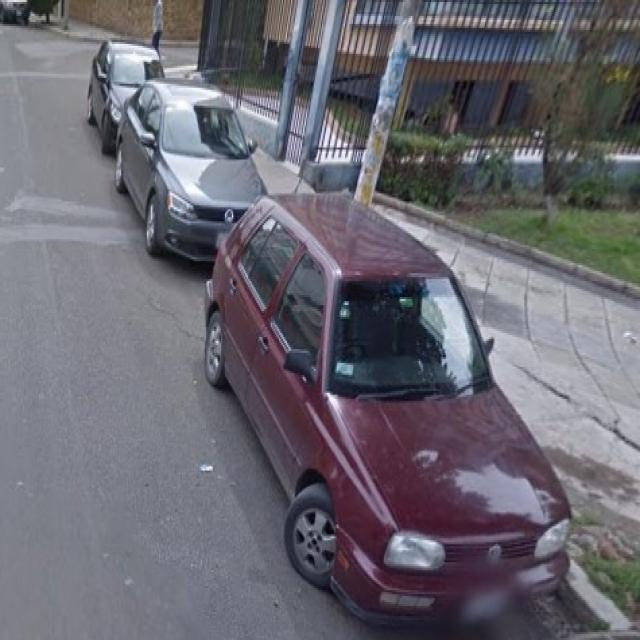car: (194, 200, 568, 640), (136, 50, 266, 216)
